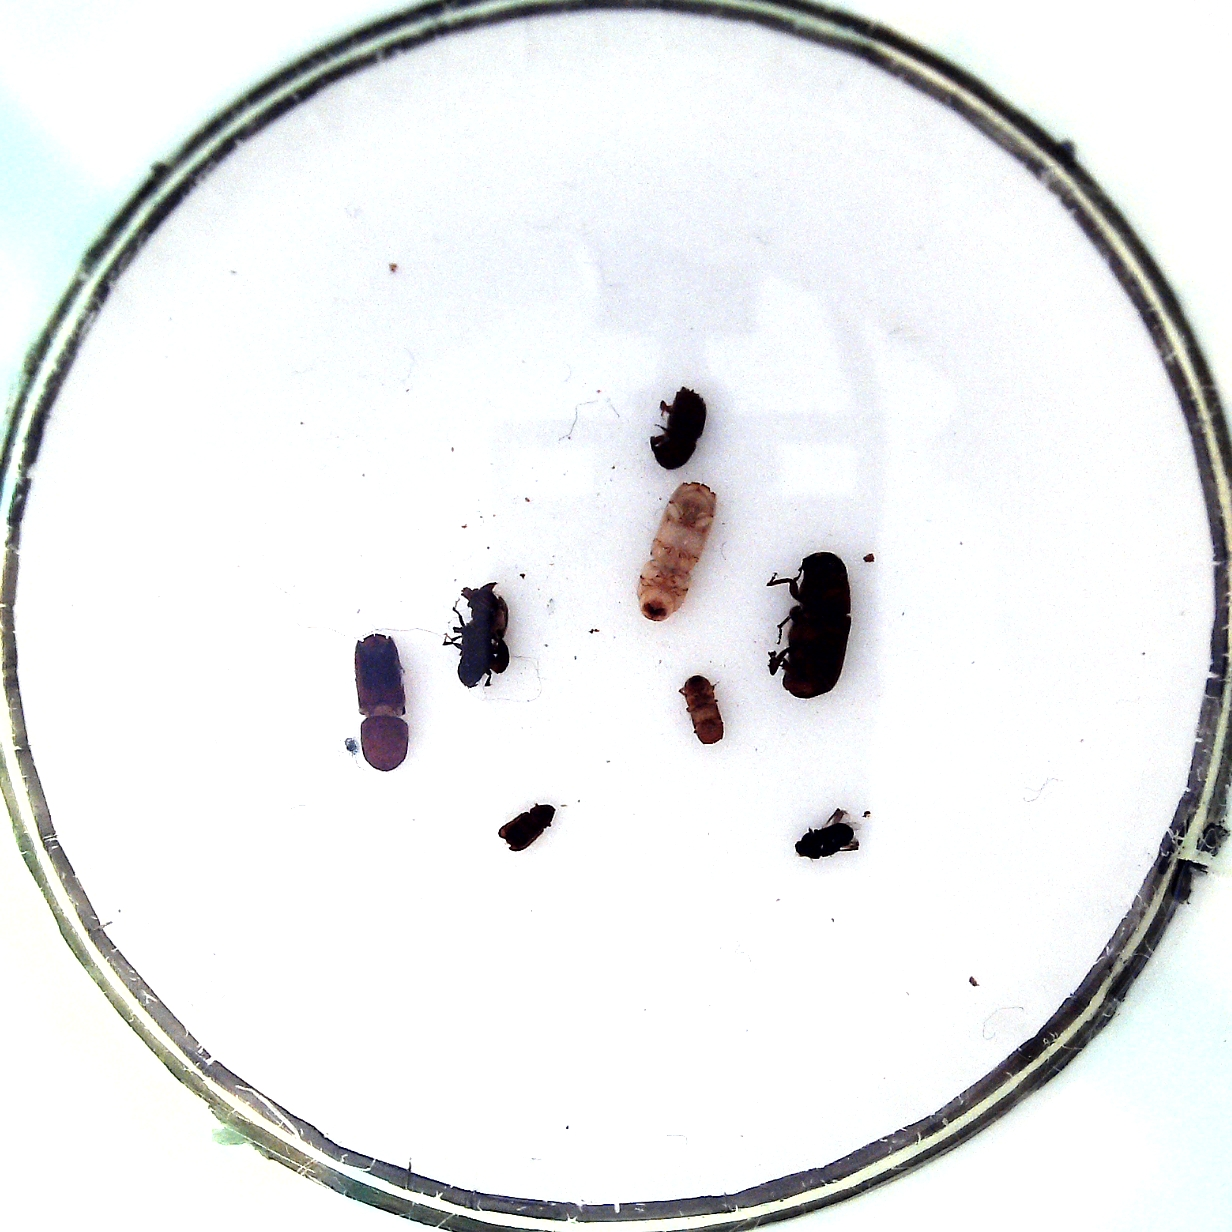Boerner: (637, 482, 716, 621), (354, 634, 410, 772)
Leconte: (783, 552, 851, 698)
acuminatus: (793, 822, 854, 859)
armandi: (457, 582, 510, 688)
coleoptera: (683, 675, 723, 745), (498, 806, 555, 852)
linnaeus: (649, 388, 709, 469)
